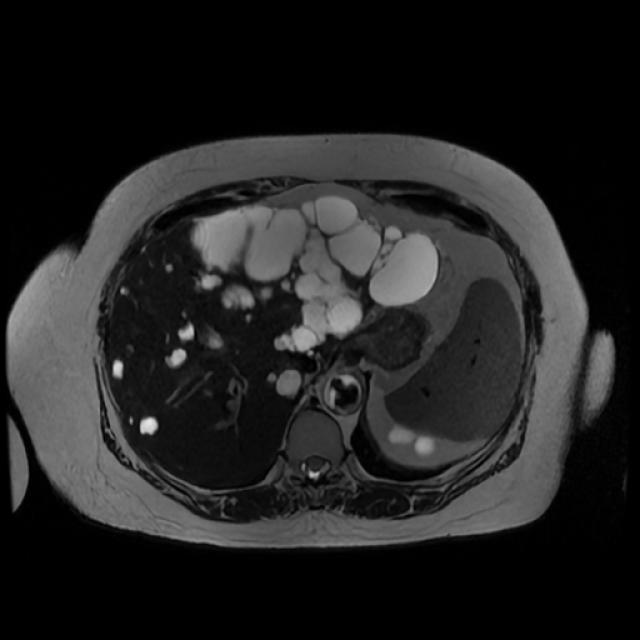sol: (386, 422, 439, 456)
